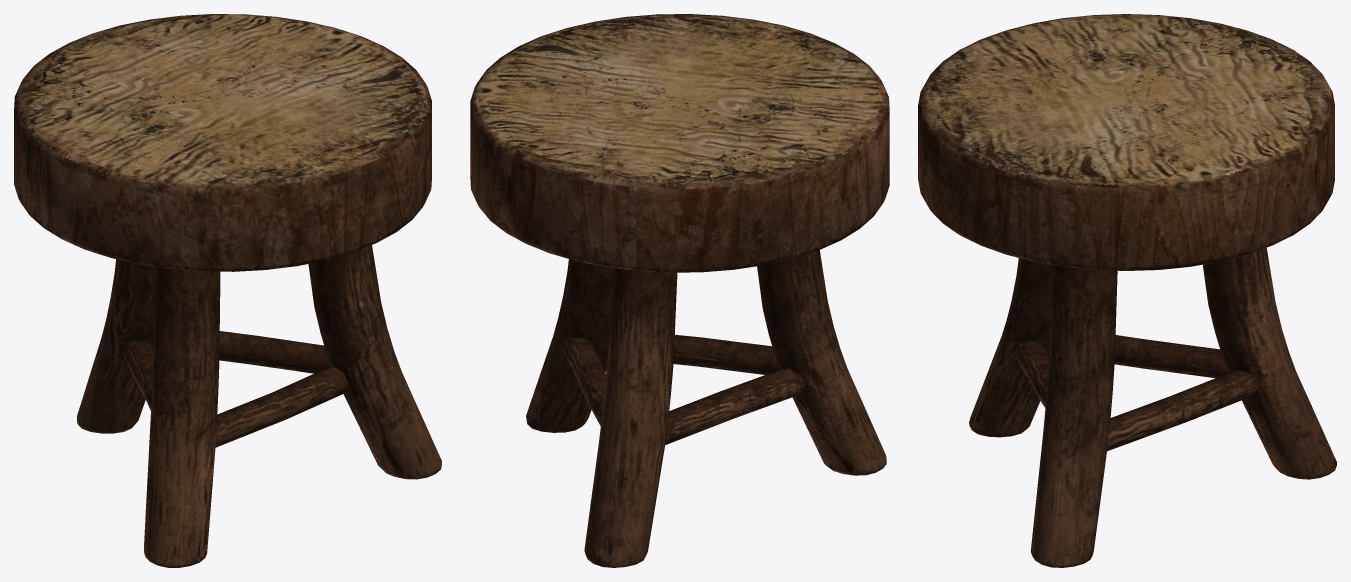
File: wooden_stool.glb
3 views of the same model, side by side, from view 1: azimuth 30°, elevation 25°; view 2: azimuth 150°, elevation 25°; view 3: azimuth 270°, elevation 25° (orthographic).
Parts seen in each view (by area): view 1: stool; view 2: stool; view 3: stool.
Boxes of the visible parts, x1,y1,x2,y2 form: stool: [14, 14, 441, 567]; stool: [470, 14, 889, 567]; stool: [918, 14, 1336, 567].
Size of the model in its own units: 42.14 by 42.59 by 42.21.
1 material, 1 textured.
